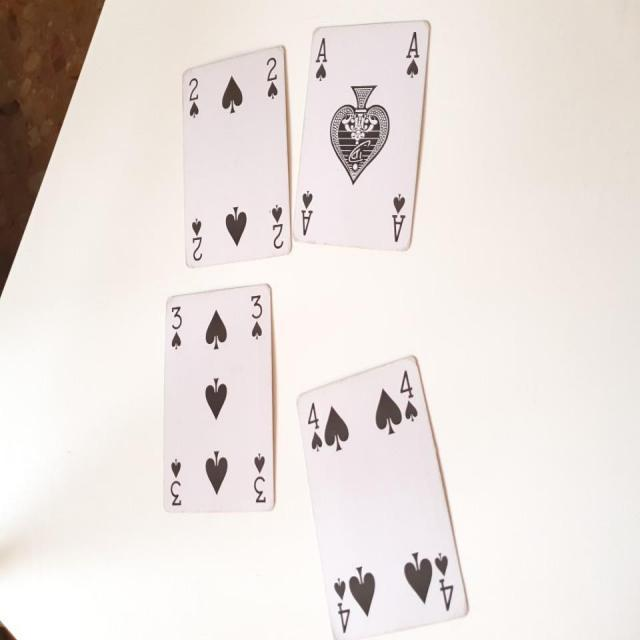2 of spades: (180, 42, 294, 270)
3 of spades: (160, 284, 278, 513)
4 of spades: (288, 361, 472, 640)
ace of spades: (292, 20, 429, 252)
